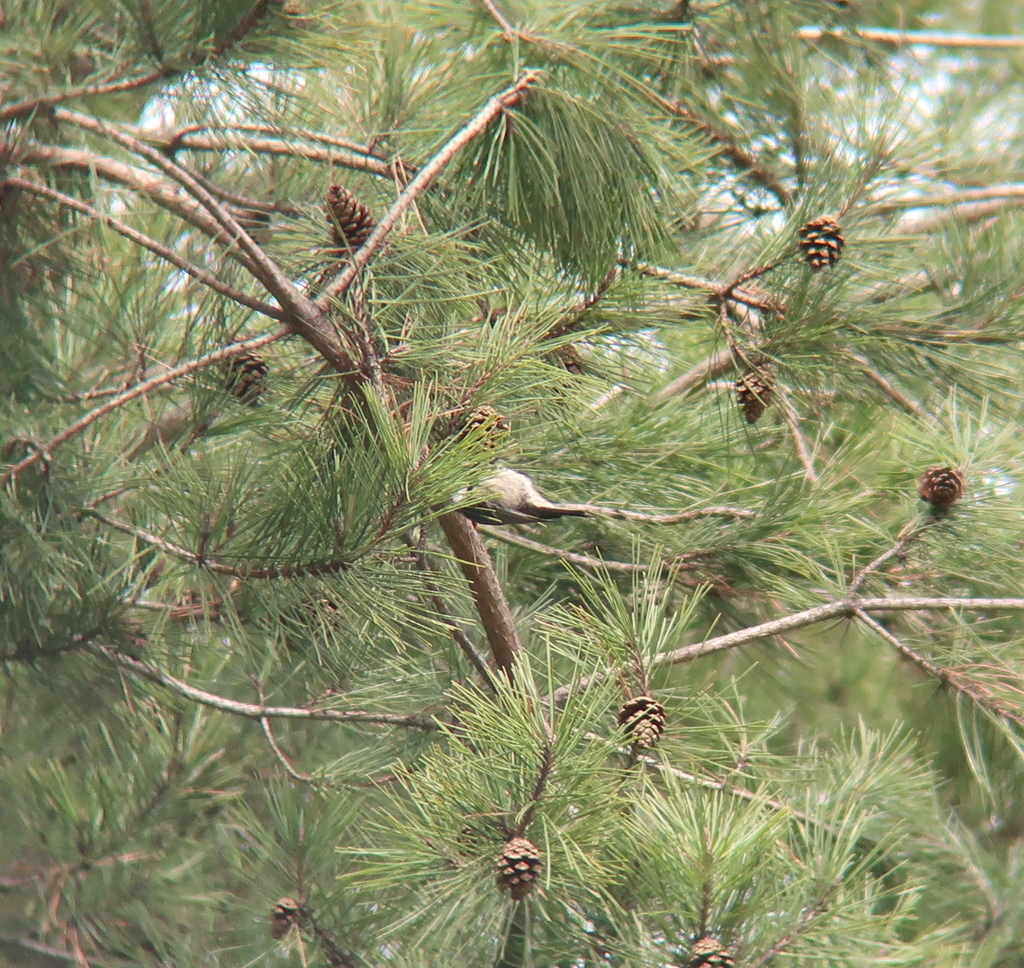Periparus_ater: (450, 466, 595, 527)
